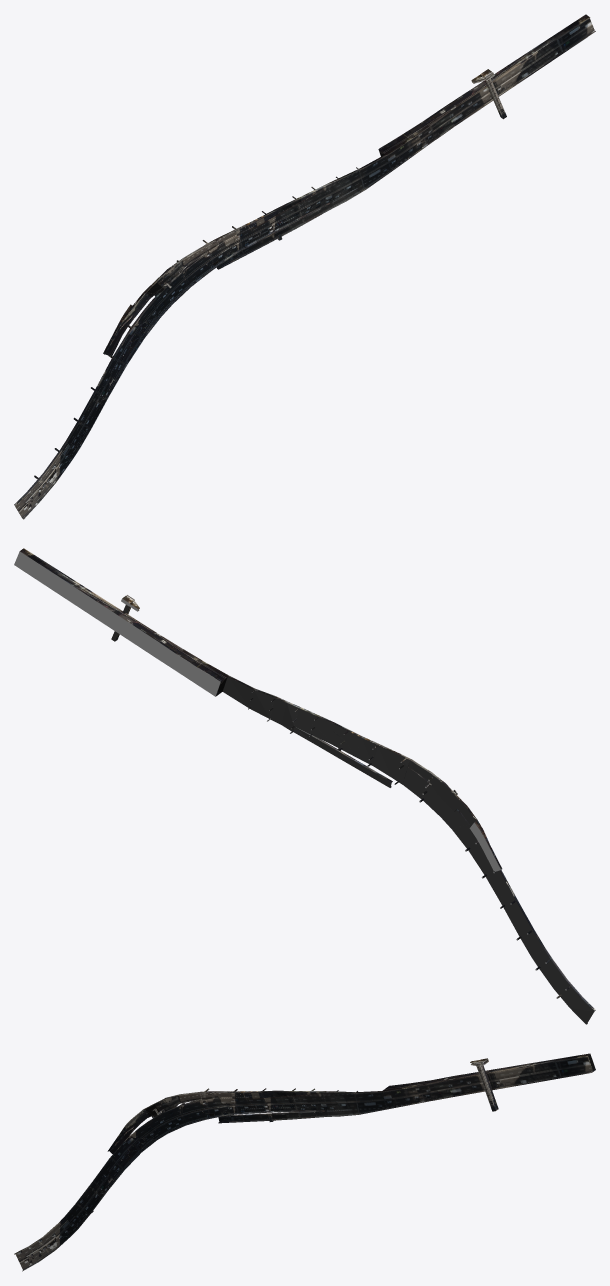
The model's file is 53393585_brid_6677.obj.
3 renders of one model, top to bottom at view 1: azimuth 30°, elevation 25°; view 2: azimuth 150°, elevation 25°; view 3: azimuth 330°, elevation 25°, orthographic. The views are drawn at different scales.
Bounding box in the file's own units: 618 × 358 × 27.94.
Materials: 7 (7 with a texture image).
